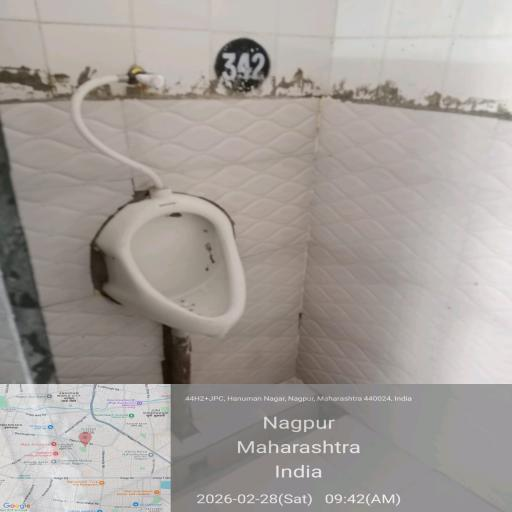clean_floor: (90, 51, 437, 164)
clean_urinal: (72, 201, 264, 355)
